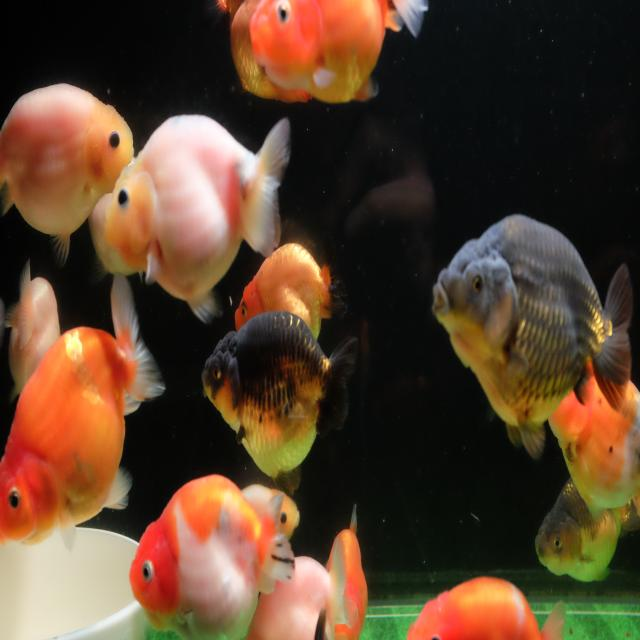Goldfish: (430, 205, 630, 461), (0, 270, 167, 548), (103, 110, 295, 324), (200, 306, 363, 500), (126, 476, 294, 640), (1, 79, 132, 271), (248, 0, 429, 107), (546, 350, 640, 524), (233, 234, 351, 346), (531, 473, 635, 591), (250, 531, 360, 640), (211, 0, 315, 103), (404, 576, 568, 640), (0, 254, 63, 406), (319, 498, 376, 640), (241, 479, 302, 544)
